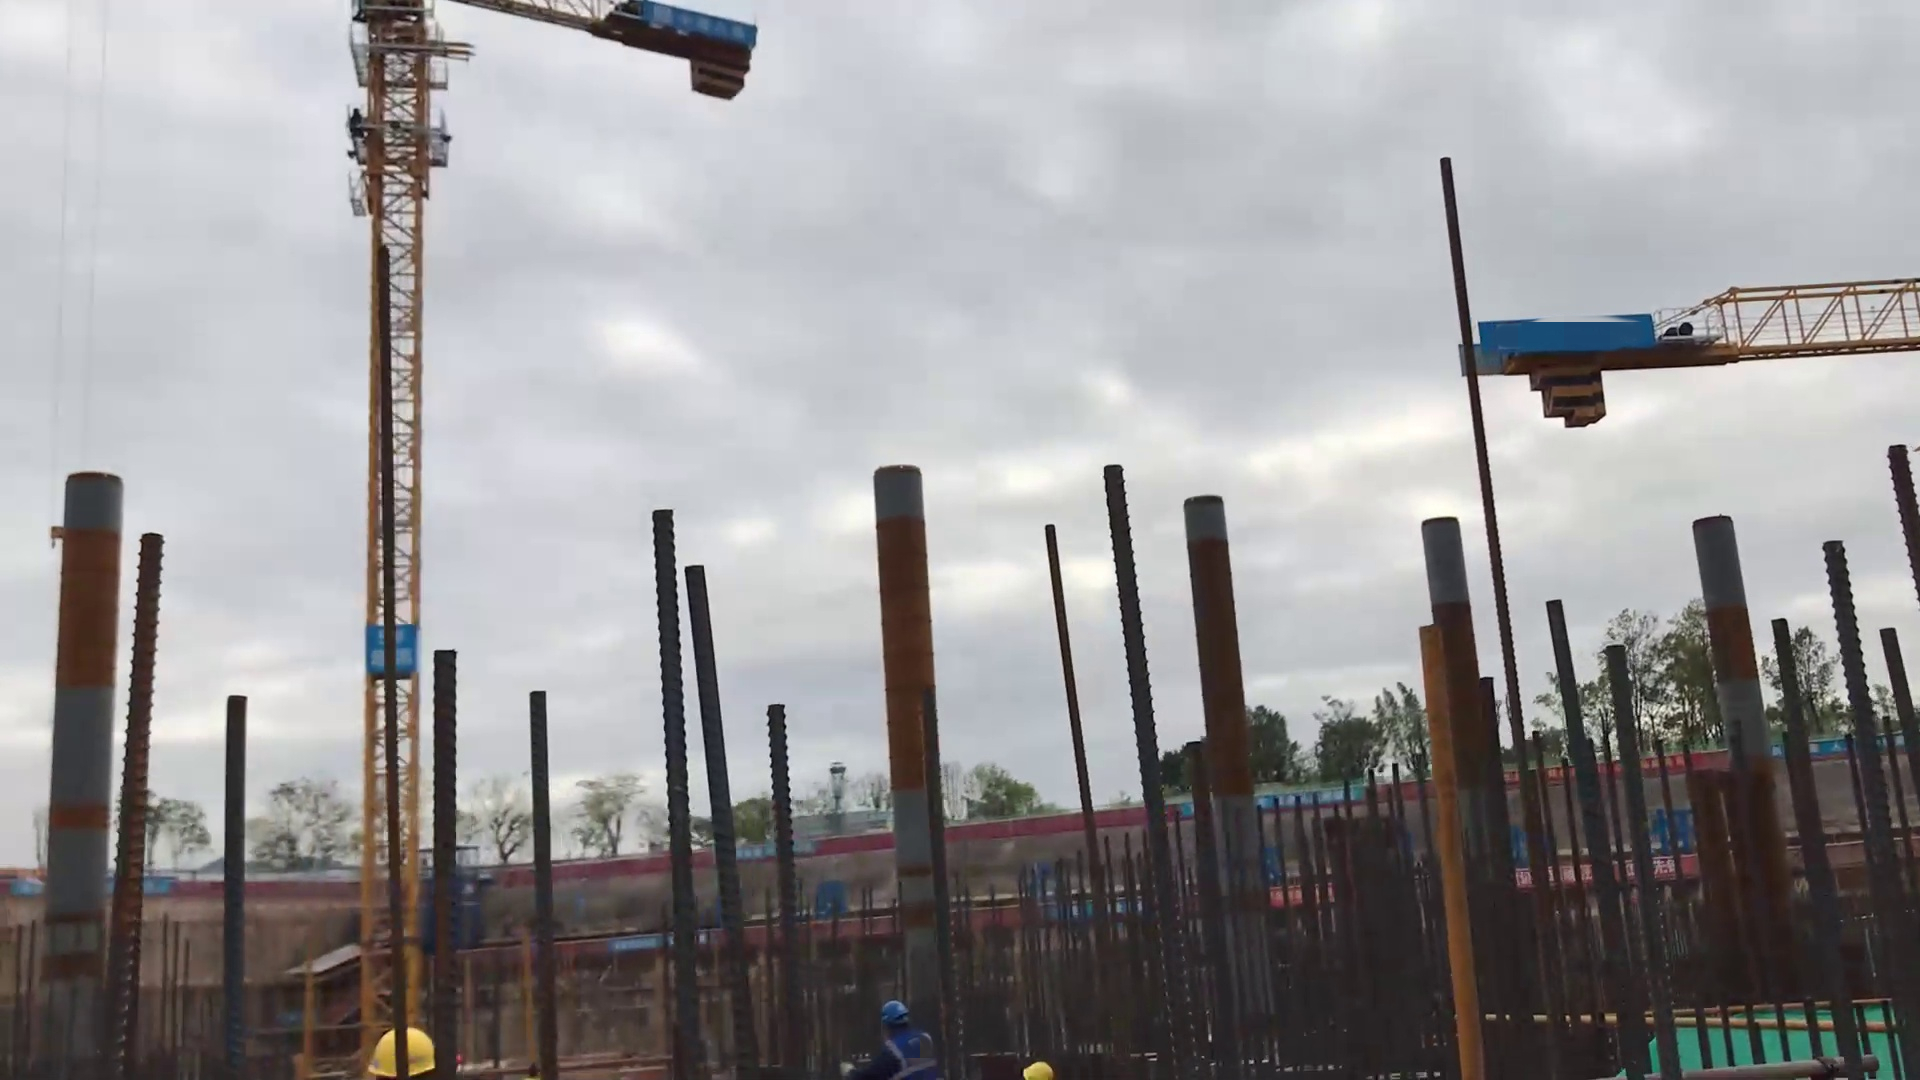helmet: (366, 1030, 445, 1078), (1015, 1056, 1057, 1080), (879, 996, 906, 1026)
person: (870, 998, 945, 1077), (368, 1026, 445, 1078)
